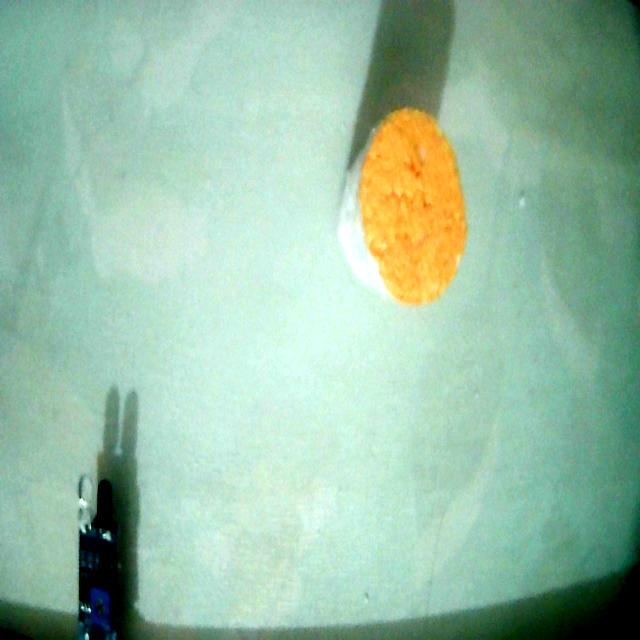yellow: (355, 109, 466, 303)
